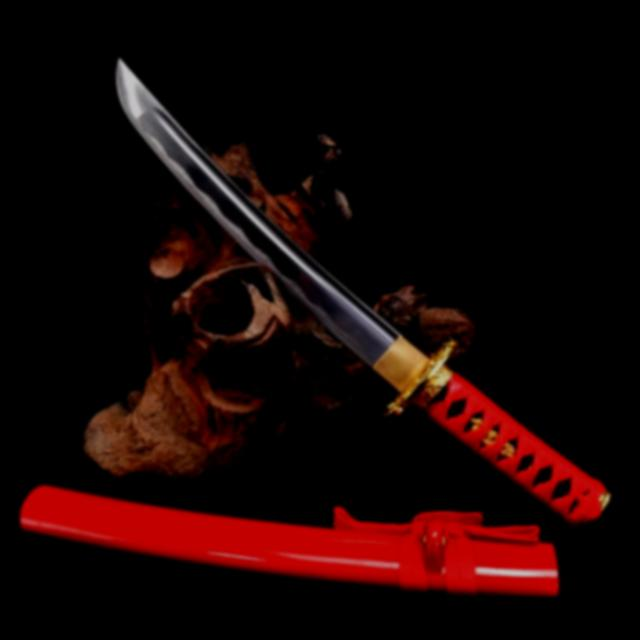short sword: (11, 35, 631, 602)
